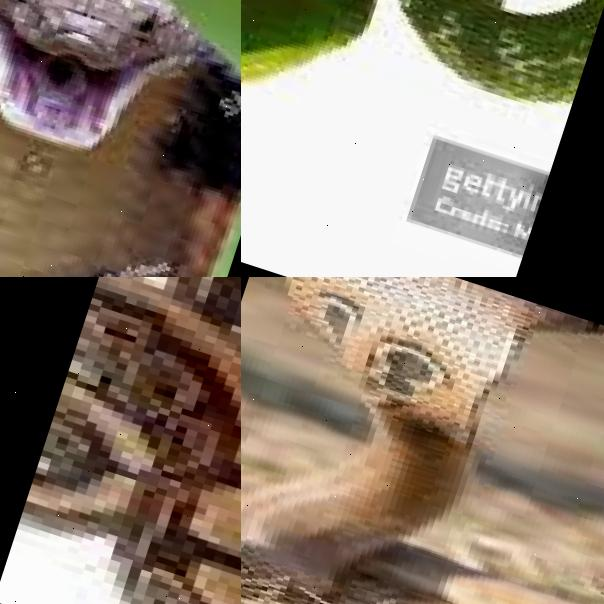snake: (241, 277, 604, 604), (241, 0, 604, 257), (0, 277, 241, 604), (0, 0, 241, 277)
